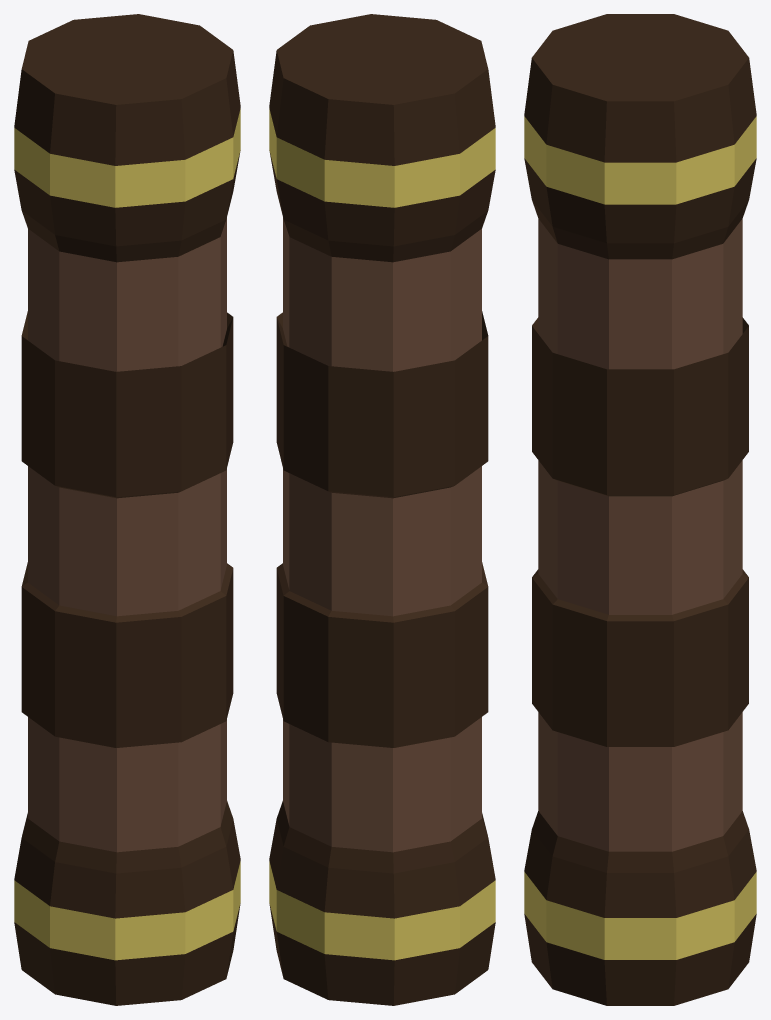
File: Handle3.glb
The picture shows the model from 3 angles, left to right: view 1: azimuth 30°, elevation 25°; view 2: azimuth 150°, elevation 25°; view 3: azimuth 270°, elevation 25°; orthographic projection.
Visible parts, largest first — view 1: Handle 3; view 2: Handle 3; view 3: Handle 3.
Boxes of the visible parts, x1,y1,x2,y2 form: Handle 3: (14, 14, 240, 1005); Handle 3: (269, 14, 495, 1005); Handle 3: (524, 14, 756, 1005).
Bounding box in the file's own units: 0.266 × 1.2 × 0.2797.
